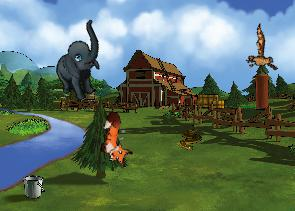eagle: (232, 23, 289, 82)
elephant: (41, 19, 120, 105)
fox: (95, 110, 140, 168)
